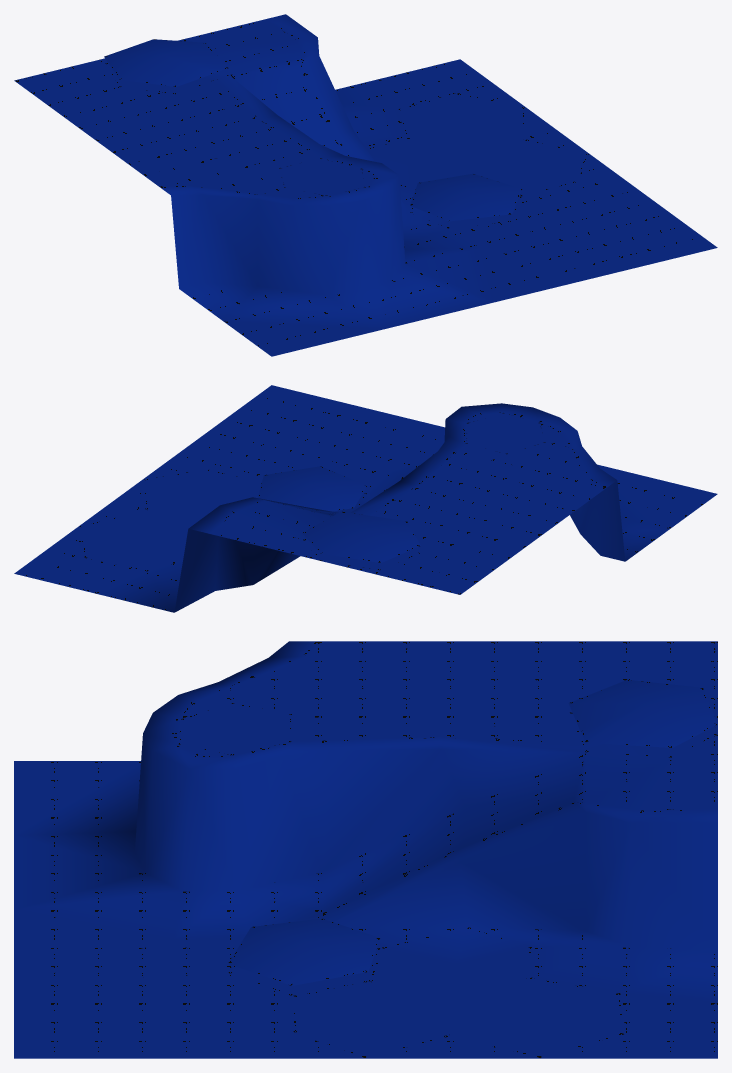
The model's file is GRD_S_C2_S_1.fbx.
3 views of the same model, one above another, from view 1: azimuth 30°, elevation 25°; view 2: azimuth 150°, elevation 25°; view 3: azimuth 270°, elevation 25° (orthographic). The views are drawn at different scales.
Visible parts, largest first — view 1: material_00022000, material_00042000, material_C0032000, material_C0012000, material_C0052000; view 2: material_00022000, material_00042000, material_C0032000, material_C0012000, material_C0052000; view 3: material_00022000, material_00042000, material_C0032000, material_C0012000, material_C0052000.
Boxes of the visible parts, x1,y1,x2,y2 form: material_00022000: (14,19,717,356); material_00042000: (159,14,409,295); material_C0032000: (278,93,588,196); material_C0012000: (104,39,522,221); material_C0052000: (104,62,522,228); material_00022000: (14,385,717,612); material_00042000: (174,403,625,612); material_C0032000: (78,412,545,571); material_C0012000: (258,466,420,562); material_C0052000: (302,492,420,570); material_00022000: (14,641,717,1058); material_00042000: (134,641,717,951); material_C0032000: (178,702,625,1058); material_C0012000: (228,679,717,985); material_C0052000: (228,712,717,995).
Size of the model in its own units: 12800 by 2800 by 12800.
